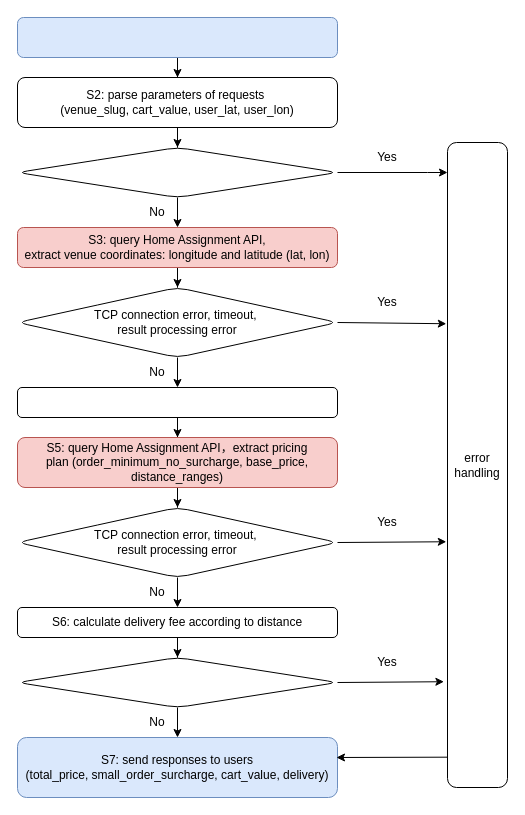
The diagram is 525 pixels wide and 815 high, and some of its shapes have lost their labels. Here are the shapes that lost their labels. From the top down, the centre of each, then its label:
(177,37): S1: get requests from users
(177,172): parameter verification error
(177,402): S4: calculate distance between venue and user
(177,682): distance exceeds limit
